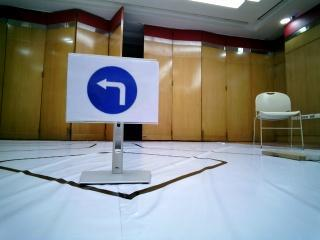left: (70, 54, 152, 122)
